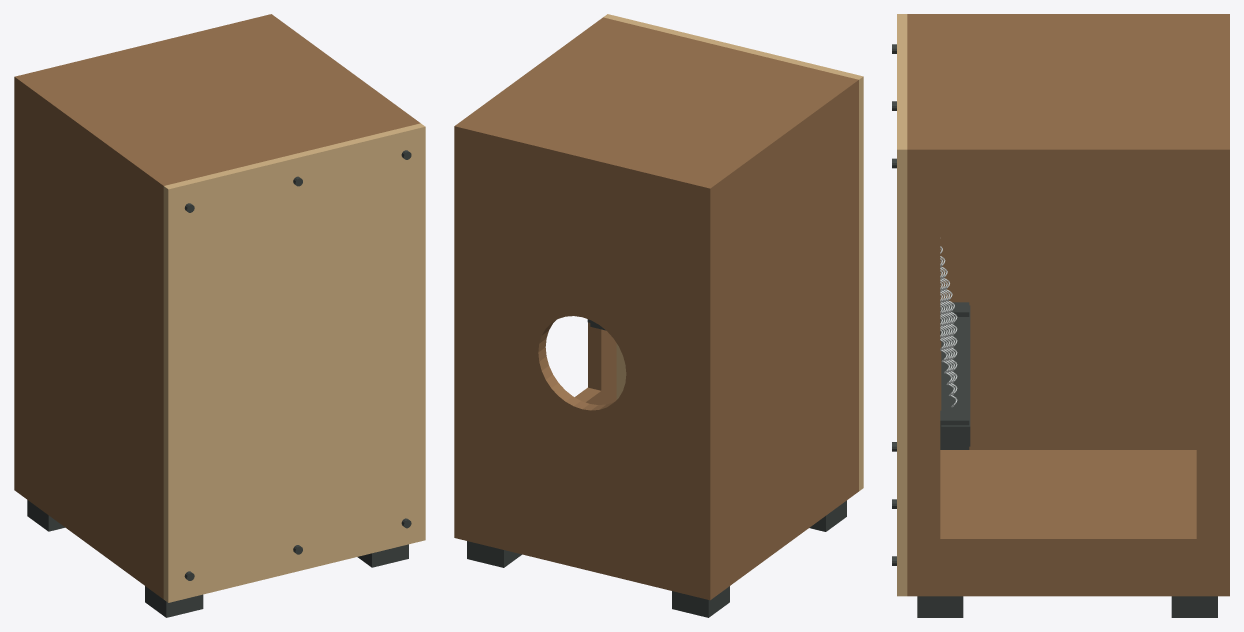
3 renders of one model, left to right at view 1: azimuth 30°, elevation 25°; view 2: azimuth 150°, elevation 25°; view 3: azimuth 270°, elevation 25°, orthographic. The views are drawn at different scales.
Parts seen in each view (by area): view 1: WholeThinFrontStrikingPlate, WholeConnectedCutawayBody, WholeRearPanelWithRoundSoundPort, WholeGroundFoot00, WholeGroundFoot10; view 2: WholeRearPanelWithRoundSoundPort, WholeConnectedCutawayBody, WholeThinFrontStrikingPlate, WholeGroundFoot01, WholeGroundFoot11; view 3: WholeConnectedCutawayBody, WholeRearPanelWithRoundSoundPort, WholeThinFrontStrikingPlate, WholeInternalSnareCarrier, WholeGroundFoot10, WholeGroundFoot11, WholeFrontRootedSnareBracket1.
Part boxes in pixels (bbox=[...]): WholeThinFrontStrikingPlate: bbox=[163, 123, 425, 602]; WholeConnectedCutawayBody: bbox=[22, 19, 420, 598]; WholeRearPanelWithRoundSoundPort: bbox=[14, 14, 278, 495]; WholeGroundFoot00: bbox=[145, 586, 203, 617]; WholeGroundFoot10: bbox=[357, 544, 408, 567]; WholeRearPanelWithRoundSoundPort: bbox=[454, 121, 717, 600]; WholeConnectedCutawayBody: bbox=[462, 17, 858, 594]; WholeThinFrontStrikingPlate: bbox=[603, 14, 863, 491]; WholeGroundFoot01: bbox=[672, 586, 729, 617]; WholeGroundFoot11: bbox=[467, 541, 521, 567]; WholeConnectedCutawayBody: bbox=[907, 14, 1213, 596]; WholeRearPanelWithRoundSoundPort: bbox=[1213, 14, 1229, 596]; WholeThinFrontStrikingPlate: bbox=[897, 14, 907, 596]; WholeInternalSnareCarrier: bbox=[941, 305, 970, 446]; WholeGroundFoot10: bbox=[917, 596, 963, 617]; WholeGroundFoot11: bbox=[1171, 596, 1217, 617]; WholeFrontRootedSnareBracket1: bbox=[940, 410, 969, 449].
Bounding box in the file's own units: 0.32 × 0.52 × 0.337.
